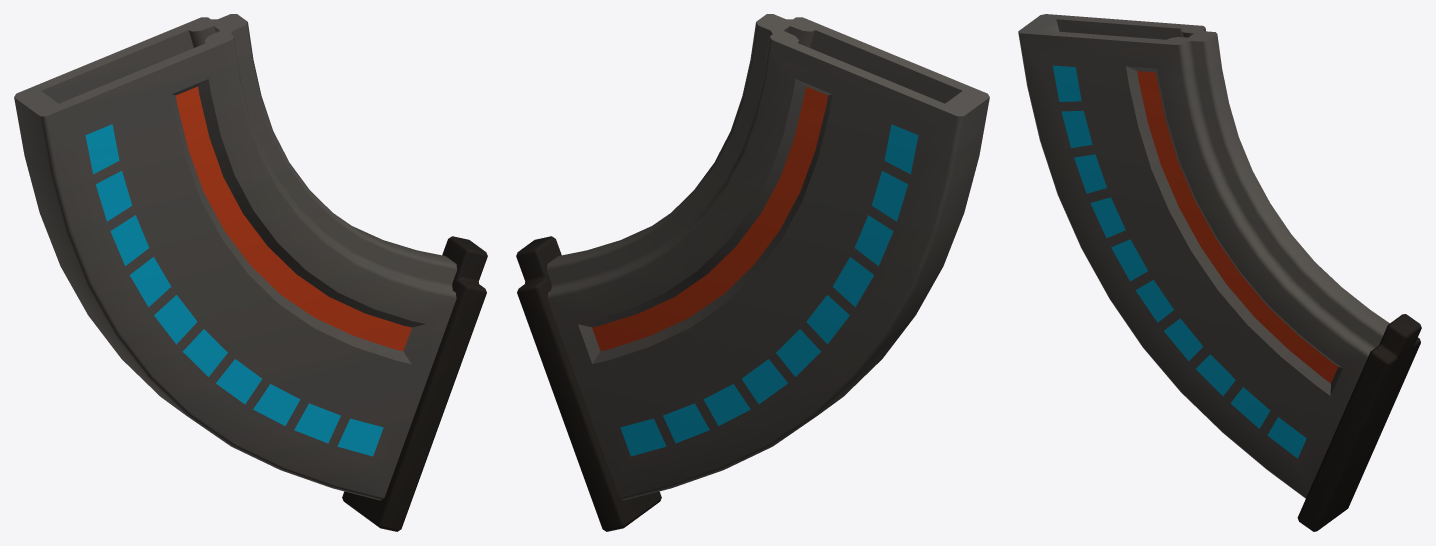
File: AR3_MagazineExtended.fbx
3 renders of one model, left to right at view 1: azimuth 30°, elevation 25°; view 2: azimuth 150°, elevation 25°; view 3: azimuth 330°, elevation 25°, orthographic. The views are drawn at different scales.
Parts seen in each view (by area): view 1: AR3_MagazineExtended; view 2: AR3_MagazineExtended; view 3: AR3_MagazineExtended.
Part boxes in pixels (<box>): AR3_MagazineExtended: <box>14,14,487,531</box>; AR3_MagazineExtended: <box>516,14,989,531</box>; AR3_MagazineExtended: <box>1018,14,1421,531</box>.
Bounding box in the file's own units: 16.43 × 18.53 × 2.51.
